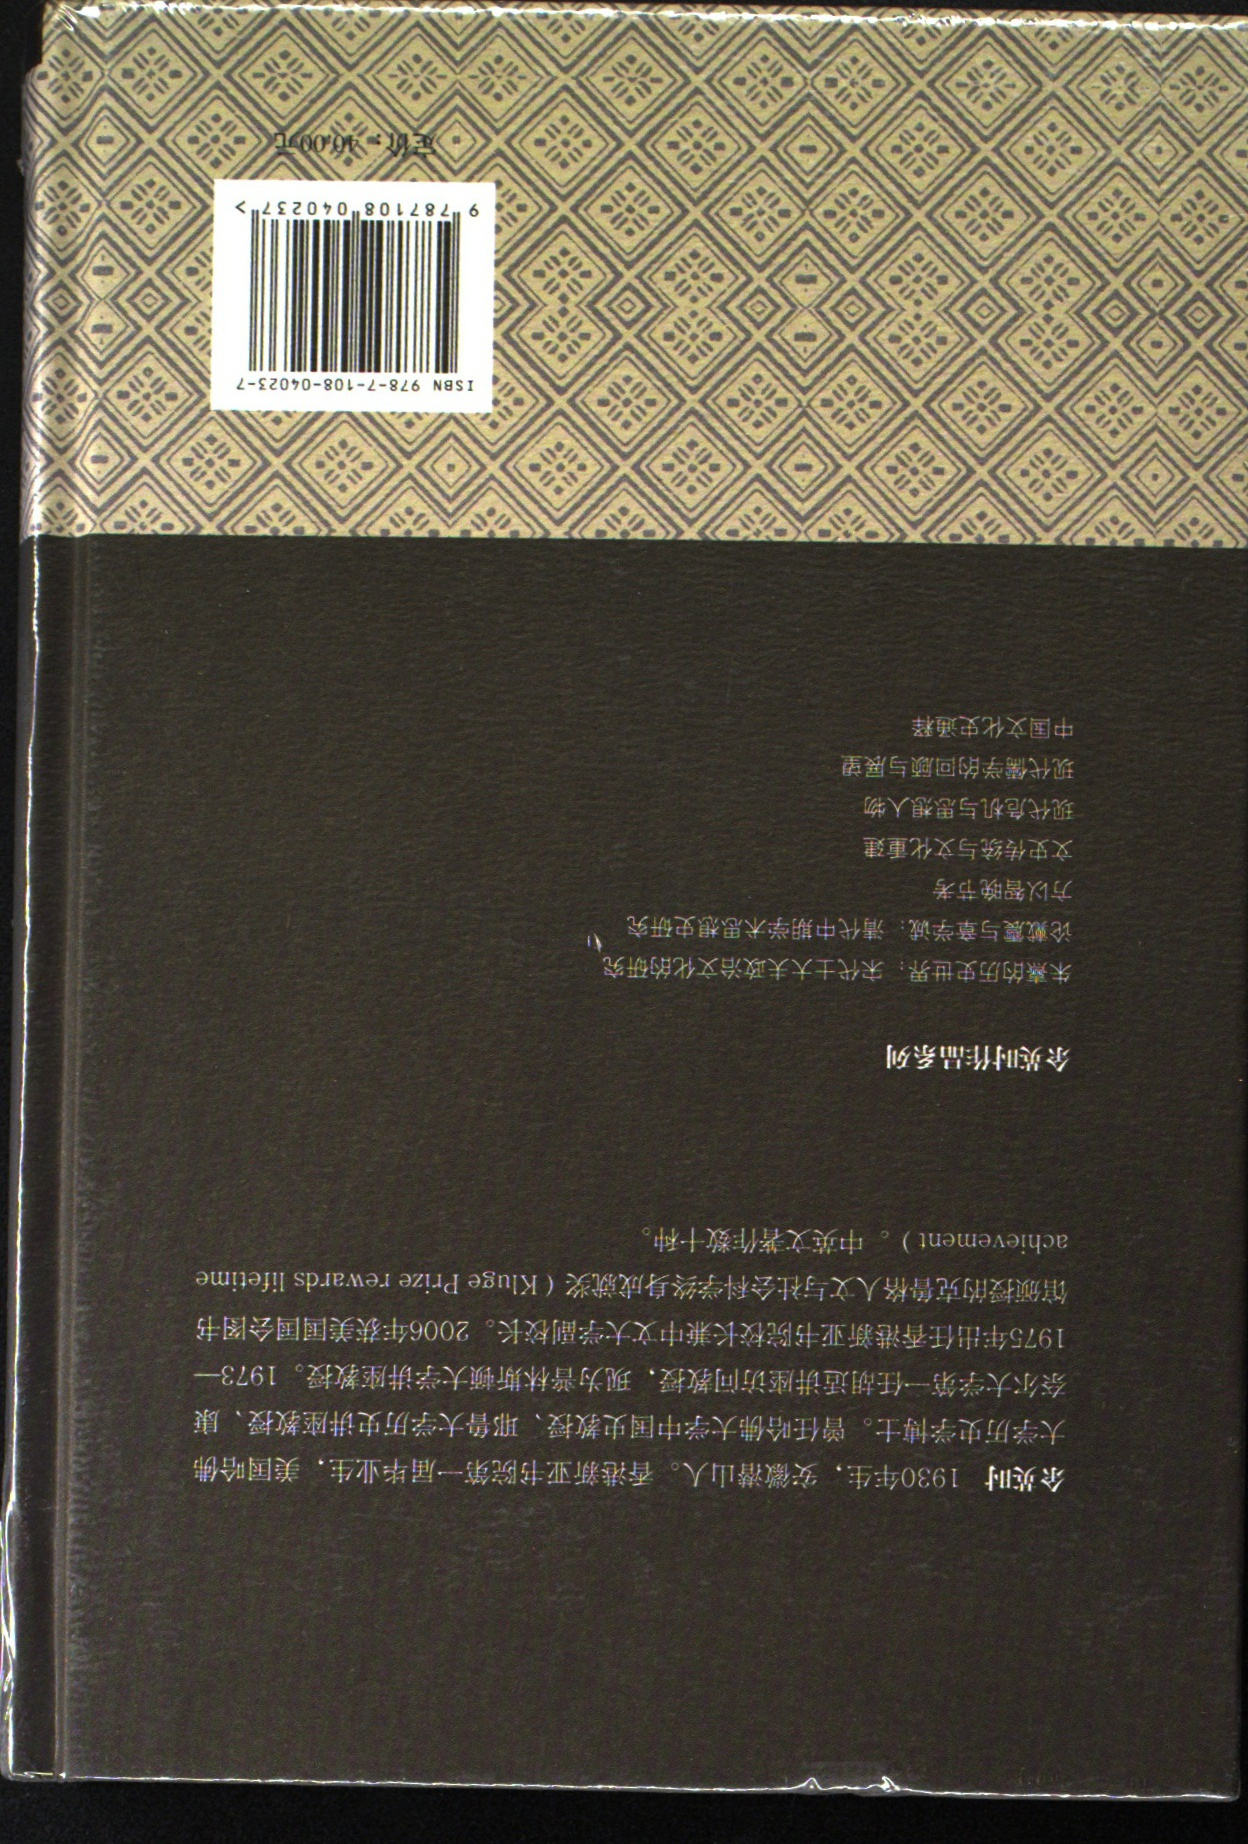barcode: (217, 181, 496, 415)
